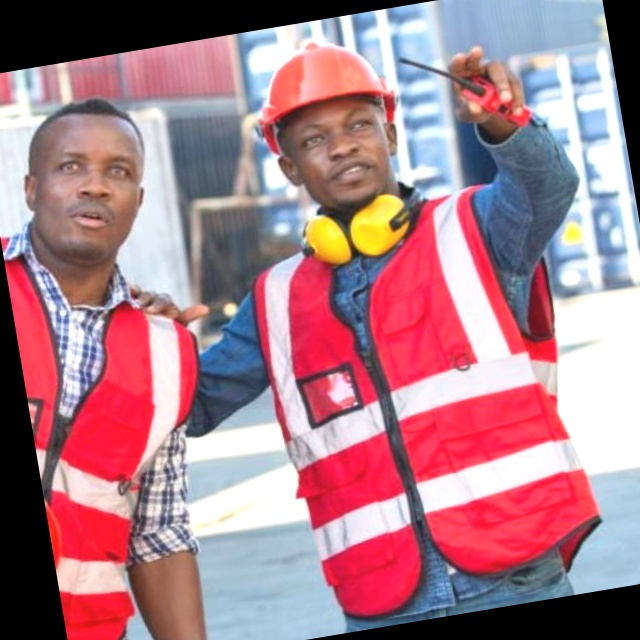Con_Casco: (245, 28, 415, 221)
Con_Chaleco: (243, 180, 579, 623), (4, 232, 246, 640)
Sin_Casco_Mascarrilla: (9, 88, 164, 267)
